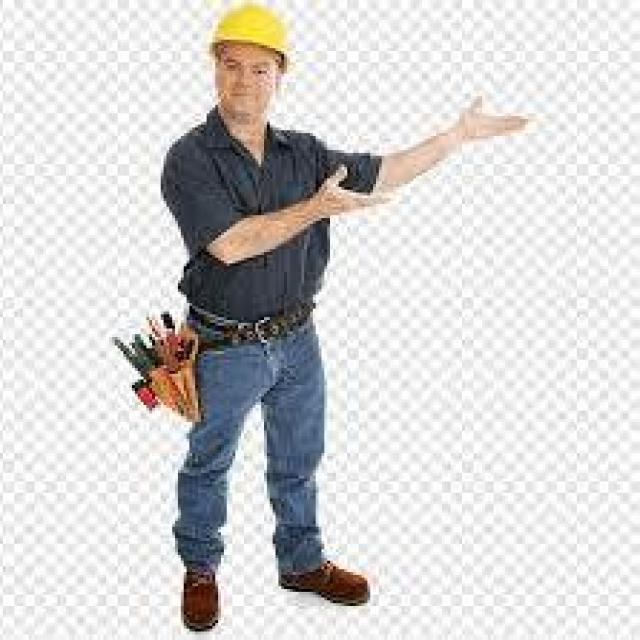Safety-Helmet: (189, 0, 312, 76)
